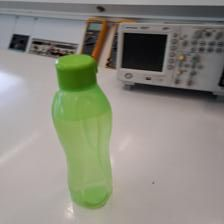bottle: (50, 51, 115, 207)
